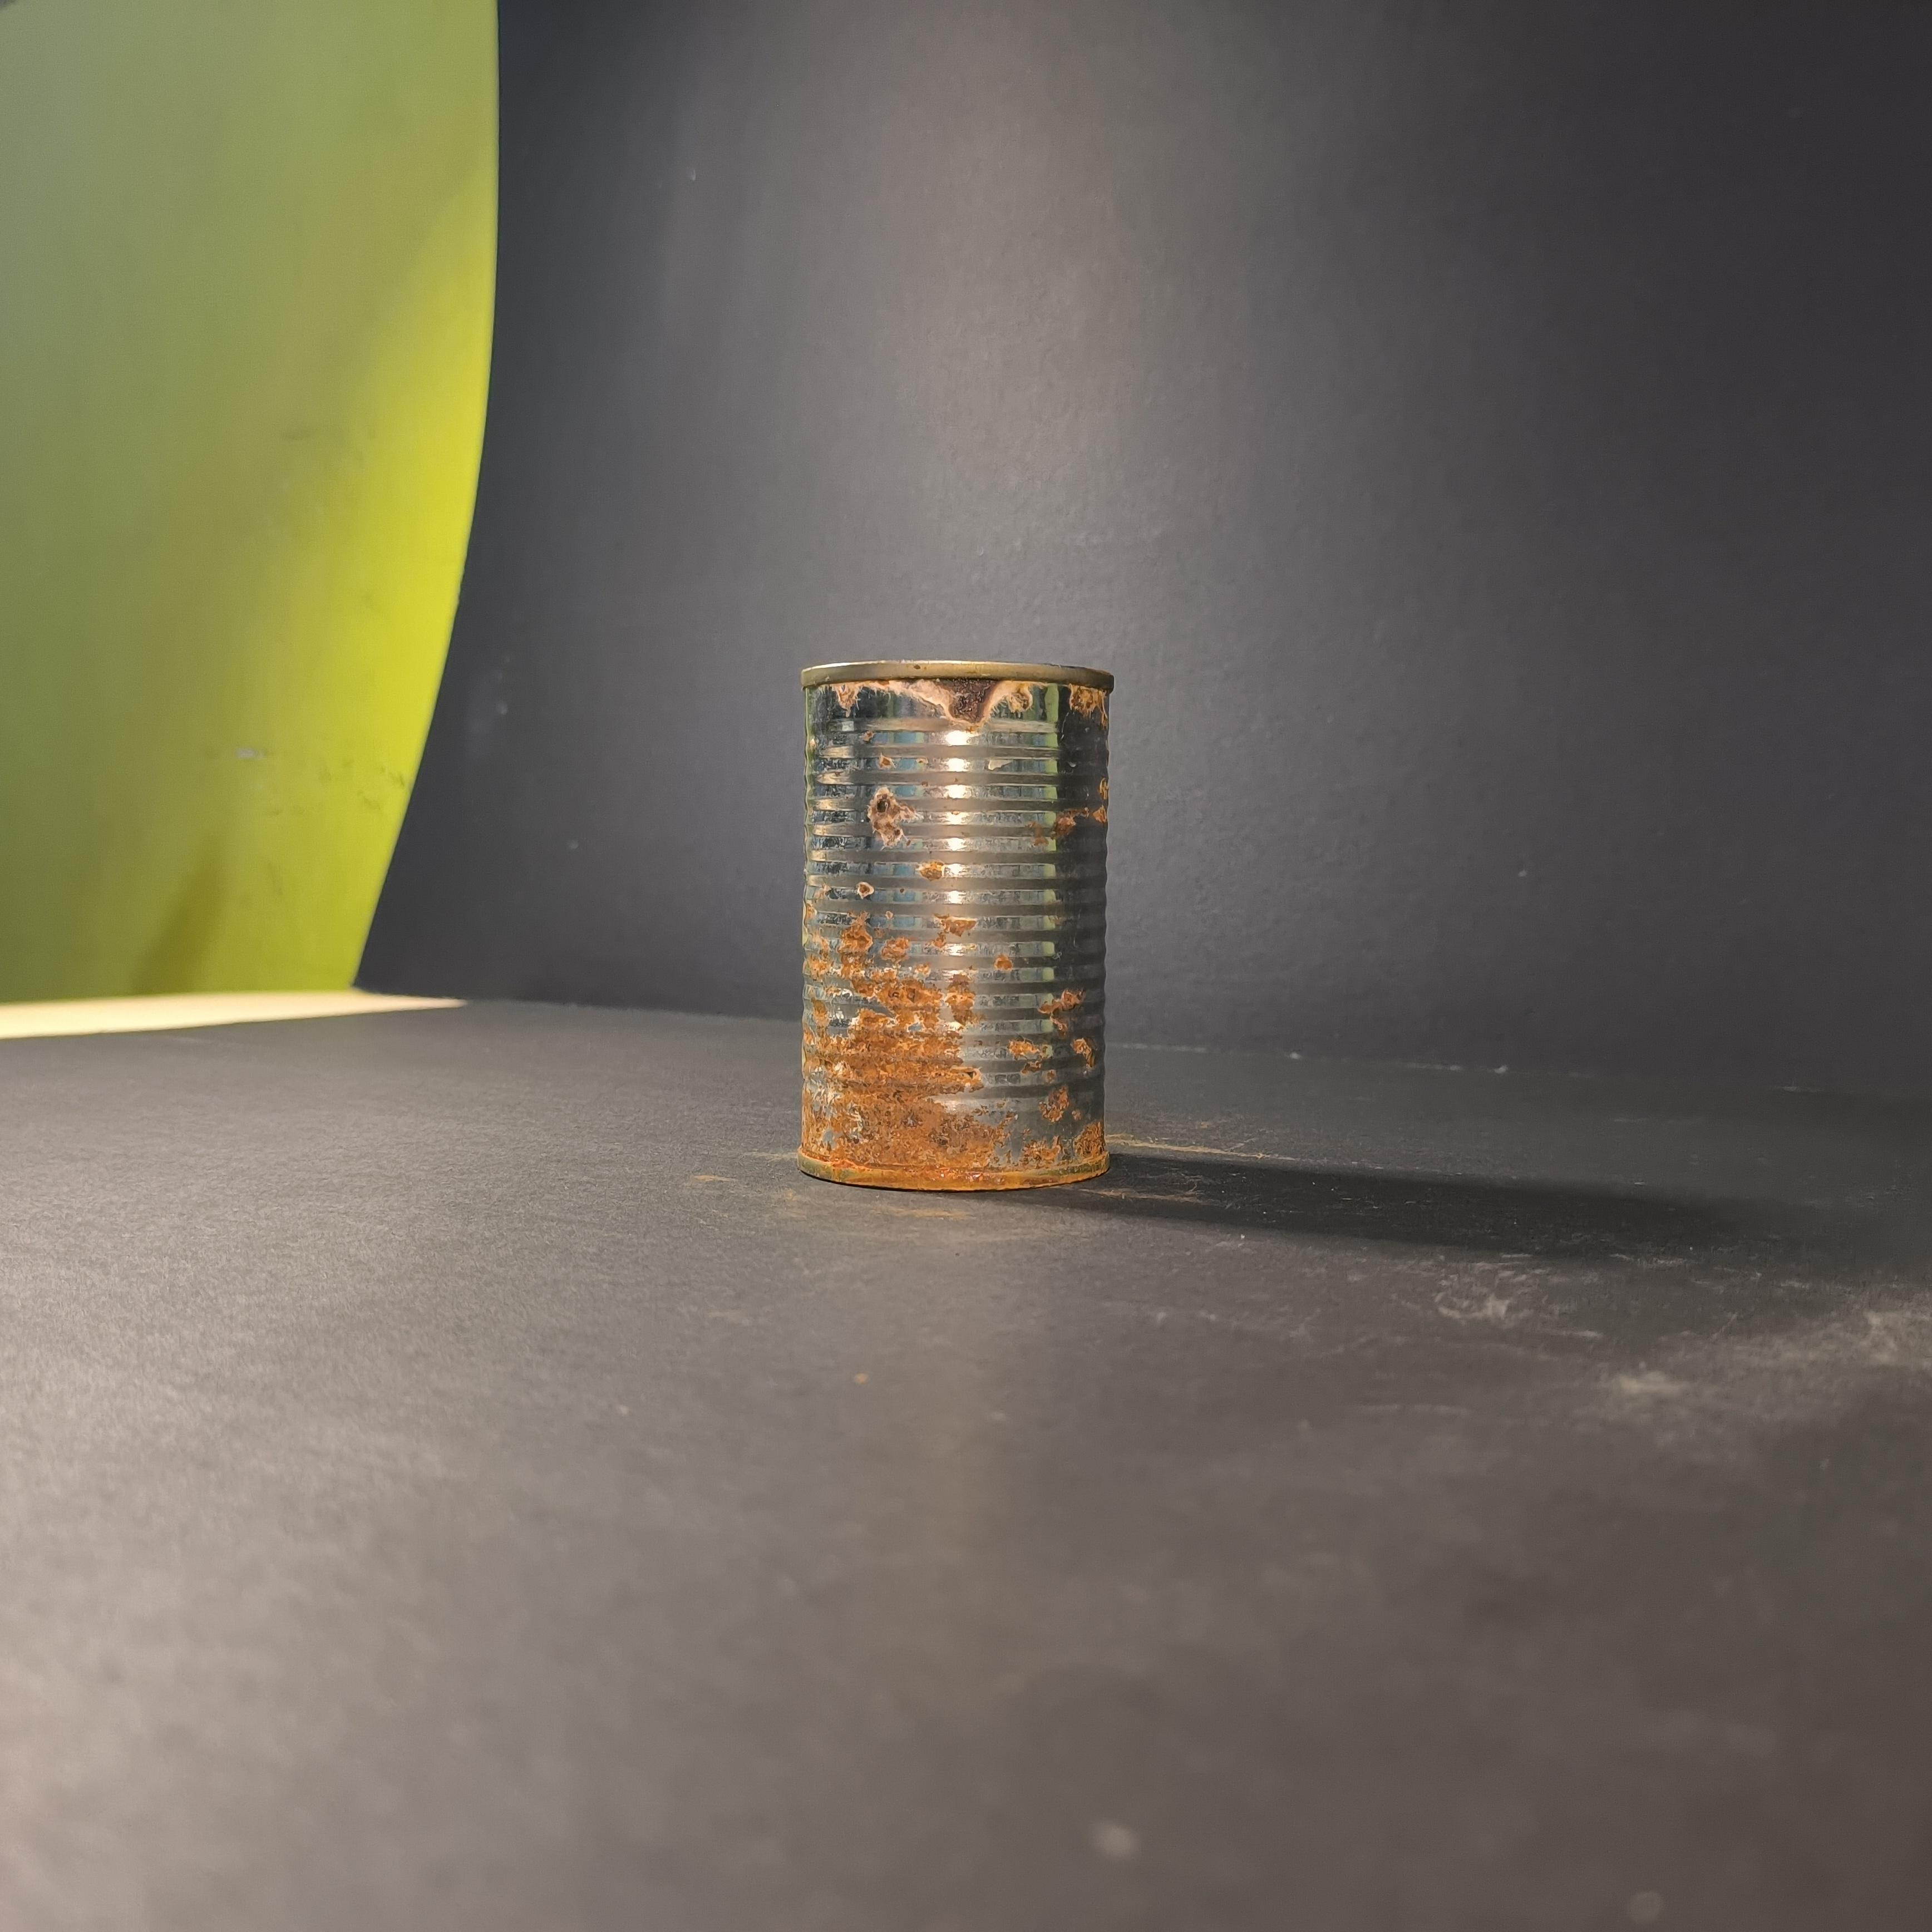Rusted: (787, 626, 1129, 1214)
